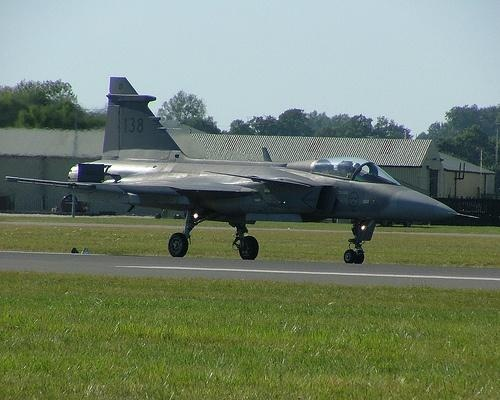aeroplane: (65, 75, 470, 269)
